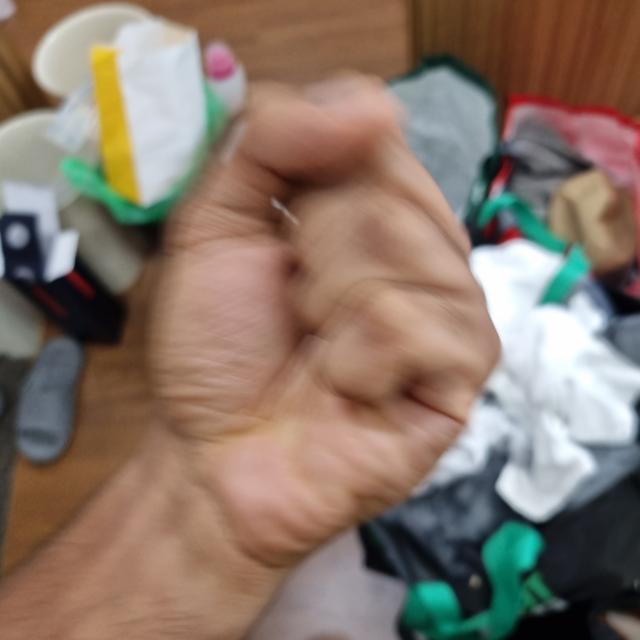Rock: (115, 76, 501, 556)
